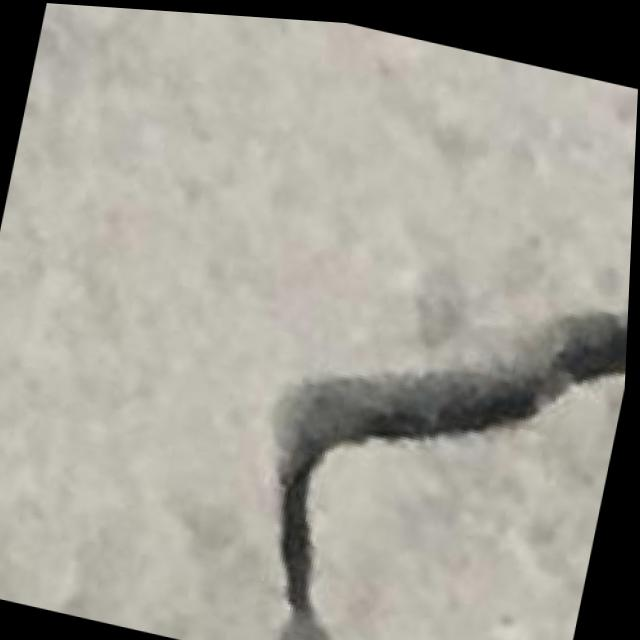Crack: (204, 200, 633, 640)
